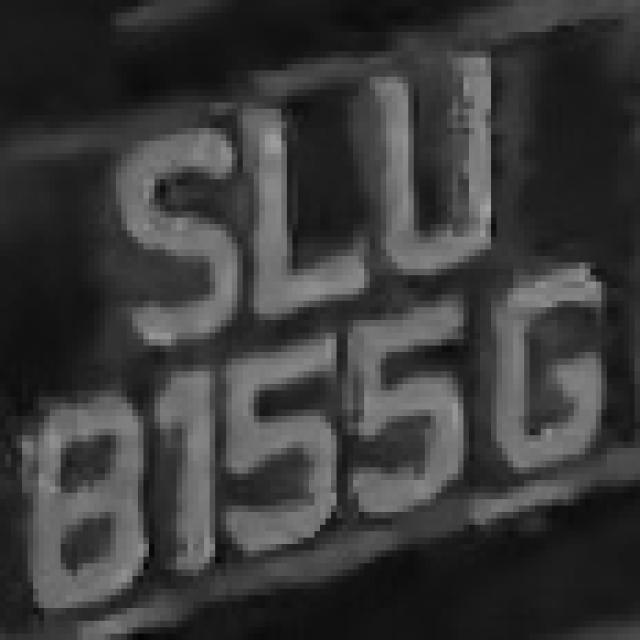1: (155, 314, 226, 595)
5: (226, 339, 342, 563), (348, 314, 463, 538)
8: (0, 358, 166, 621)
G: (458, 275, 618, 493)
L: (237, 70, 381, 346)
S: (94, 90, 237, 346)
U: (370, 51, 508, 275)
